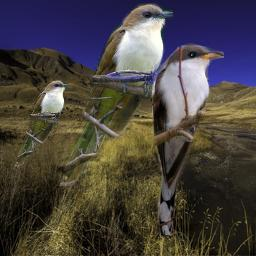Cuckoo: (58, 1, 173, 186), (150, 43, 224, 236), (14, 79, 68, 166)
